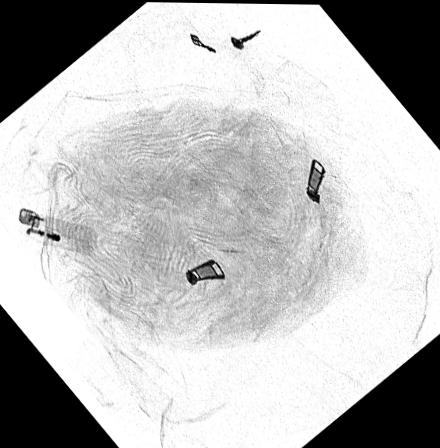Lighter: (16, 204, 95, 256)
